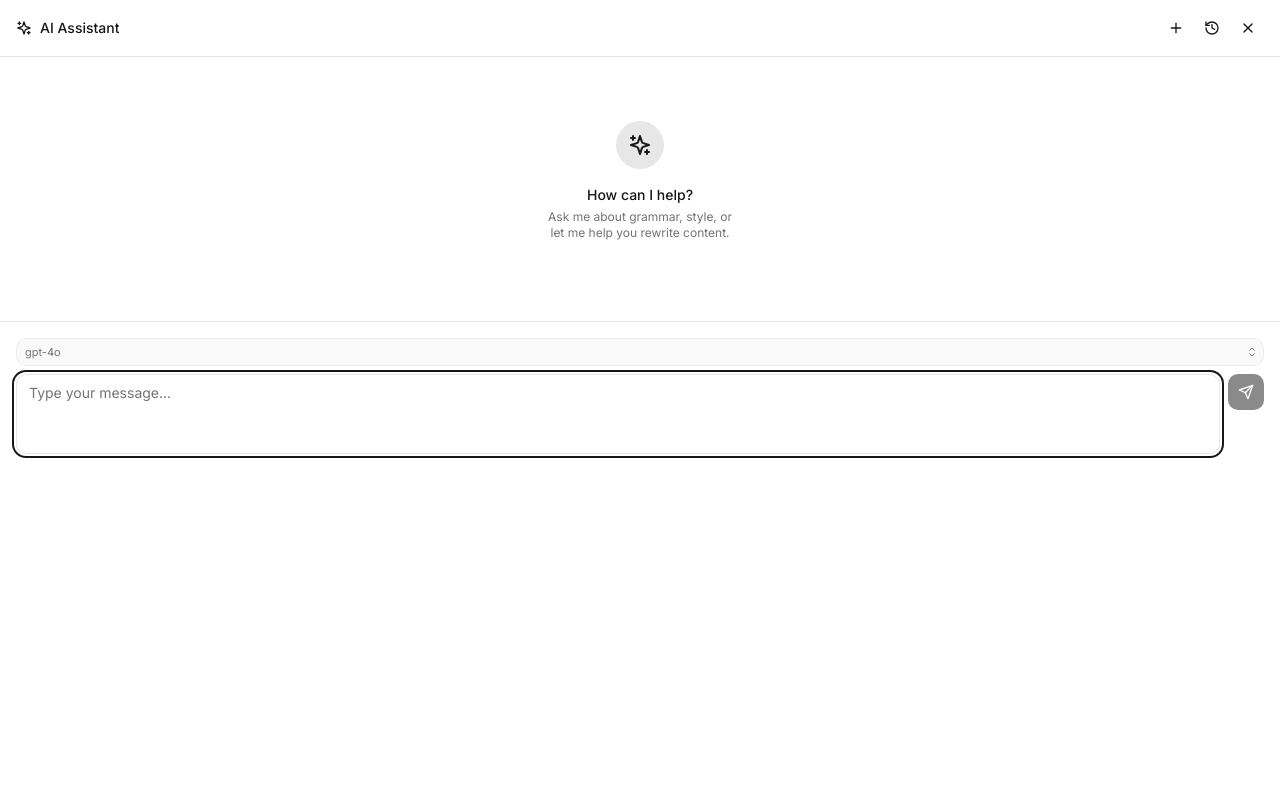
Test: chat history filtering › does not show deleted conversations in chat history
Click the button titled "Chat History": (1212, 28) [1196,12,1228,44]
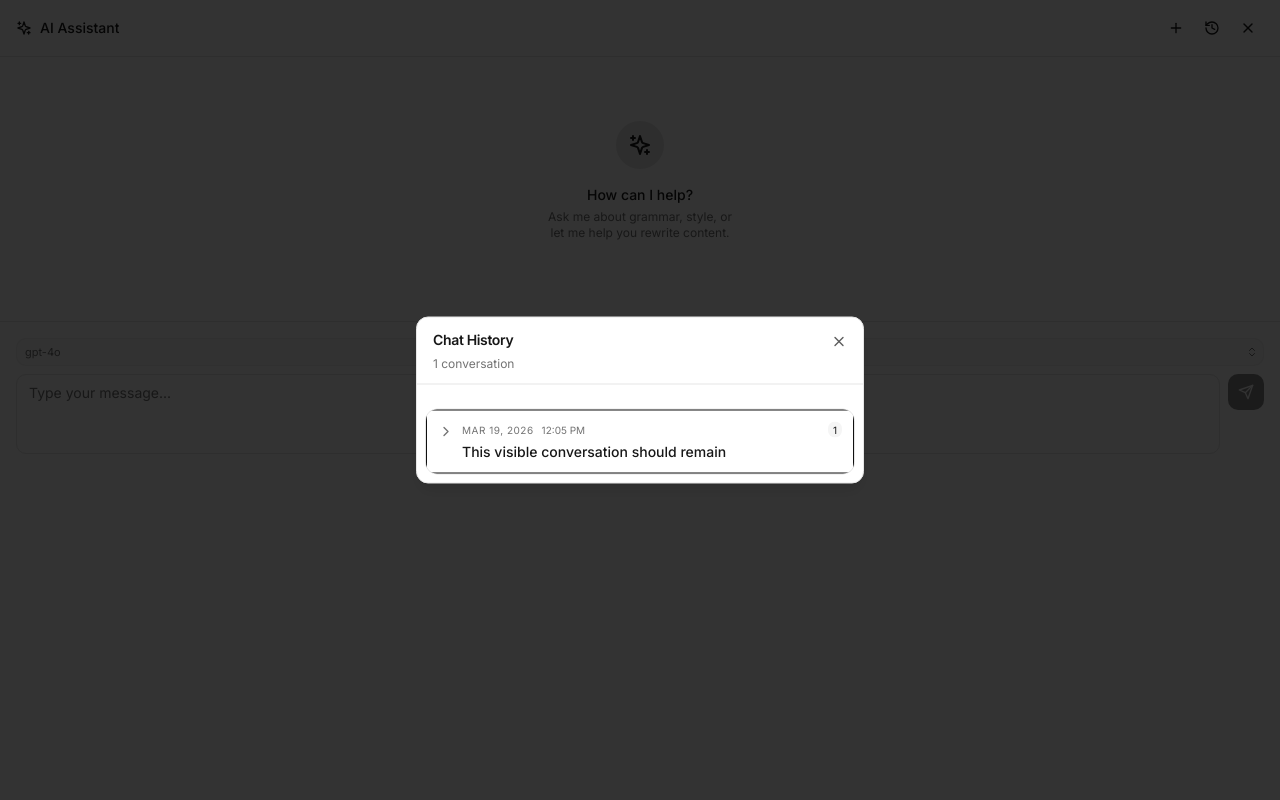
expect the text "This visible conversation should remain" is shown: met, box [462,442,726,460]
